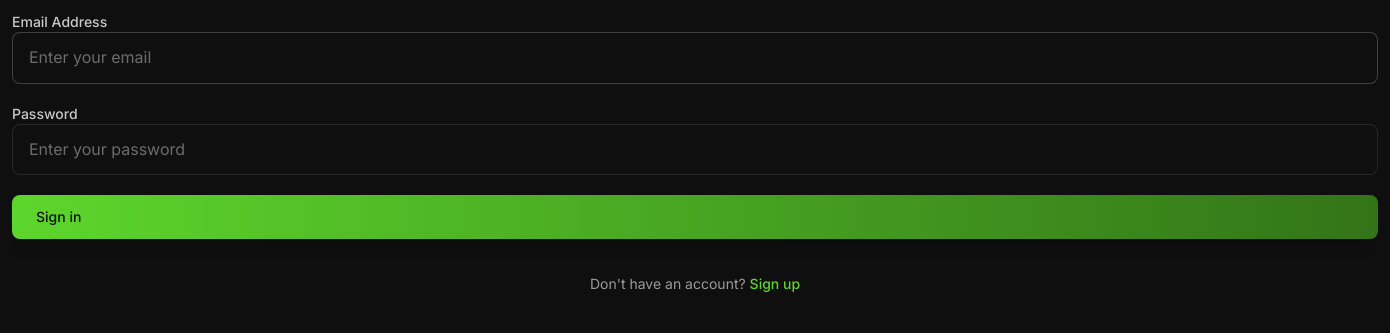
Scenario: LoginForm › validates password length on form submission
The image size is (1390, 333).
Type "test@example.com" into the field labelled "Email Address" at (695, 58), box top-left (12, 32), bottom-right (1378, 84)
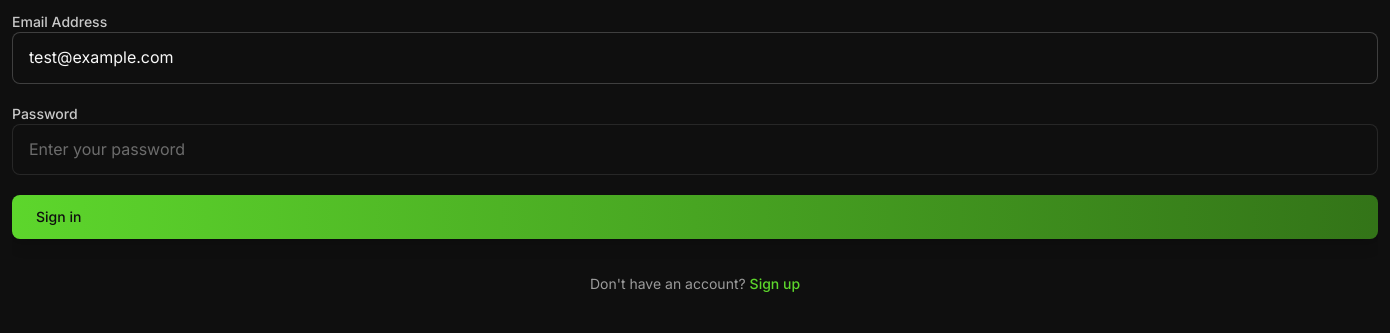
Type "123" into the password field labelled "Password" at (695, 149), box top-left (12, 124), bottom-right (1378, 175)
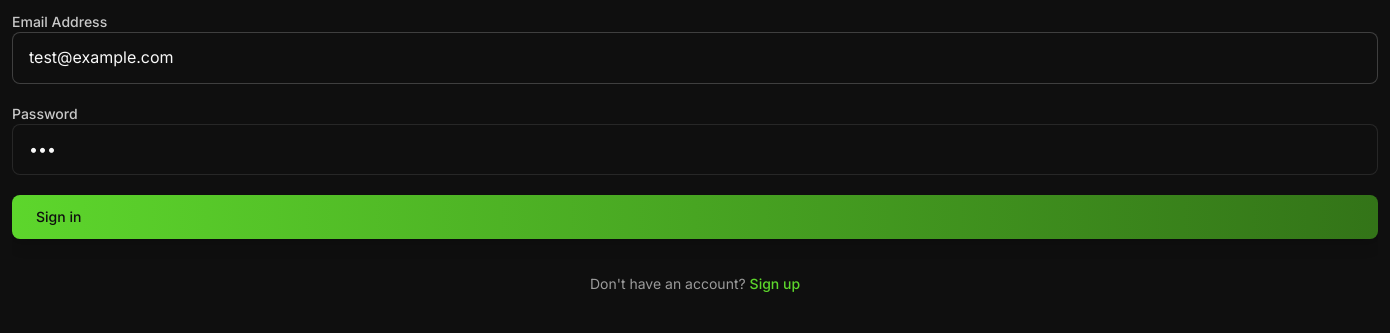
Note: Submit the form
Submit the form "Sign in"
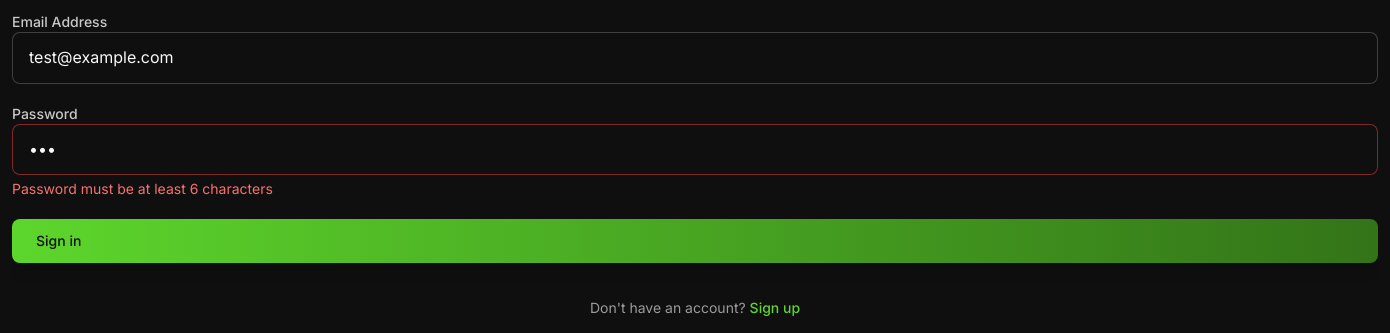
Now the text "Password must be at least 6 characters" is shown, box top-left (12, 180), bottom-right (273, 197)
